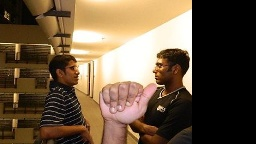Pugno: (96, 79, 160, 128)
